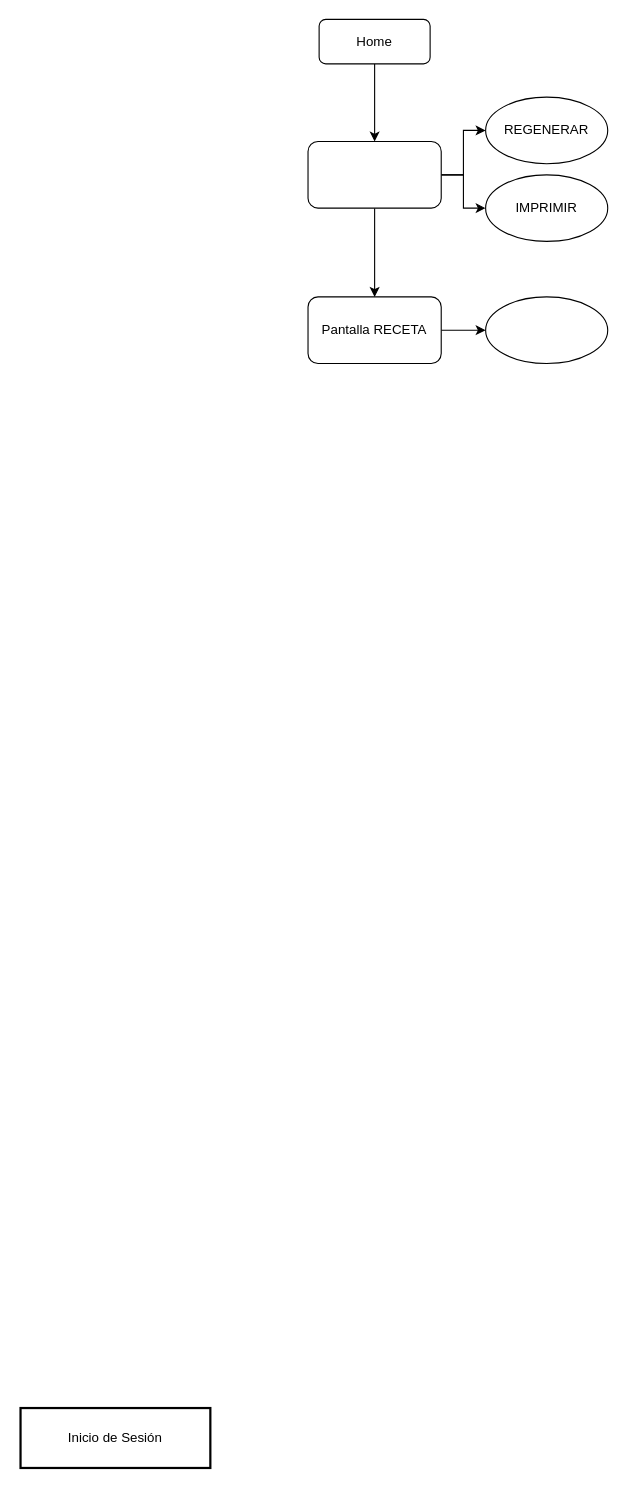
The diagram is 627 pixels wide and 1489 high, and some of its shapes have lost their labels. The centre of each missing label's shape, as x and y in pixels:
"Pantalla PLAN" goes at point 374,174.
"VOLVER" goes at point 546,330.
